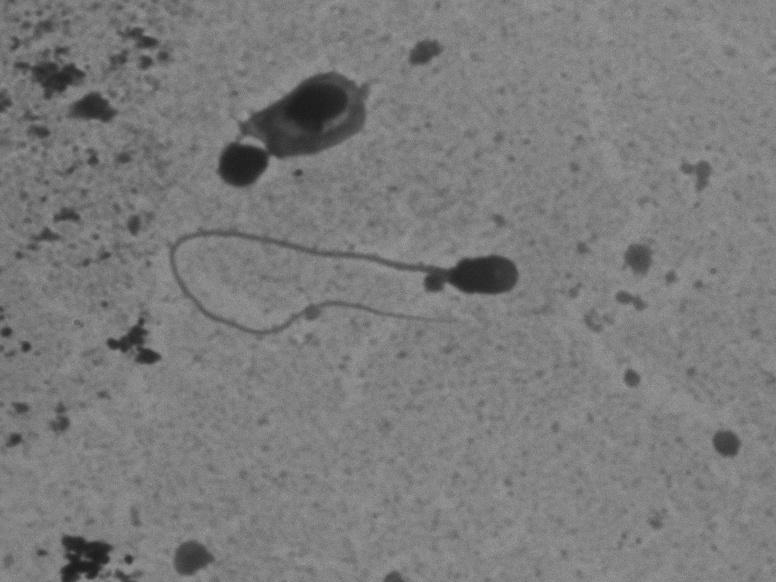Abnormal: (156, 217, 540, 371), (196, 35, 397, 195)
